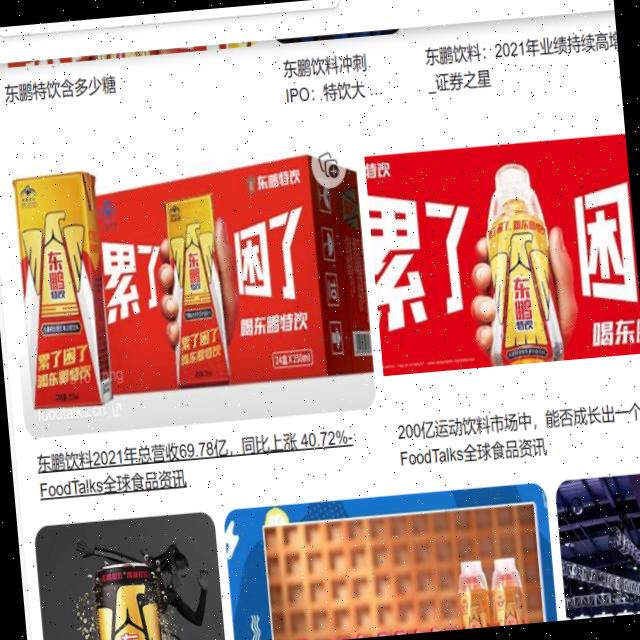dongpeng_special: (490, 229, 557, 351), (22, 210, 92, 324), (169, 220, 219, 312)
